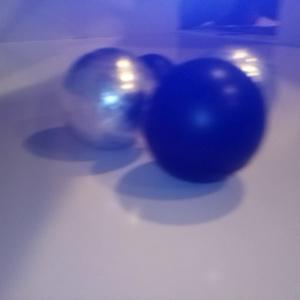alive_ball: (59, 46, 164, 149), (191, 43, 277, 130)
dead_ball: (143, 57, 266, 183), (127, 52, 177, 105)
